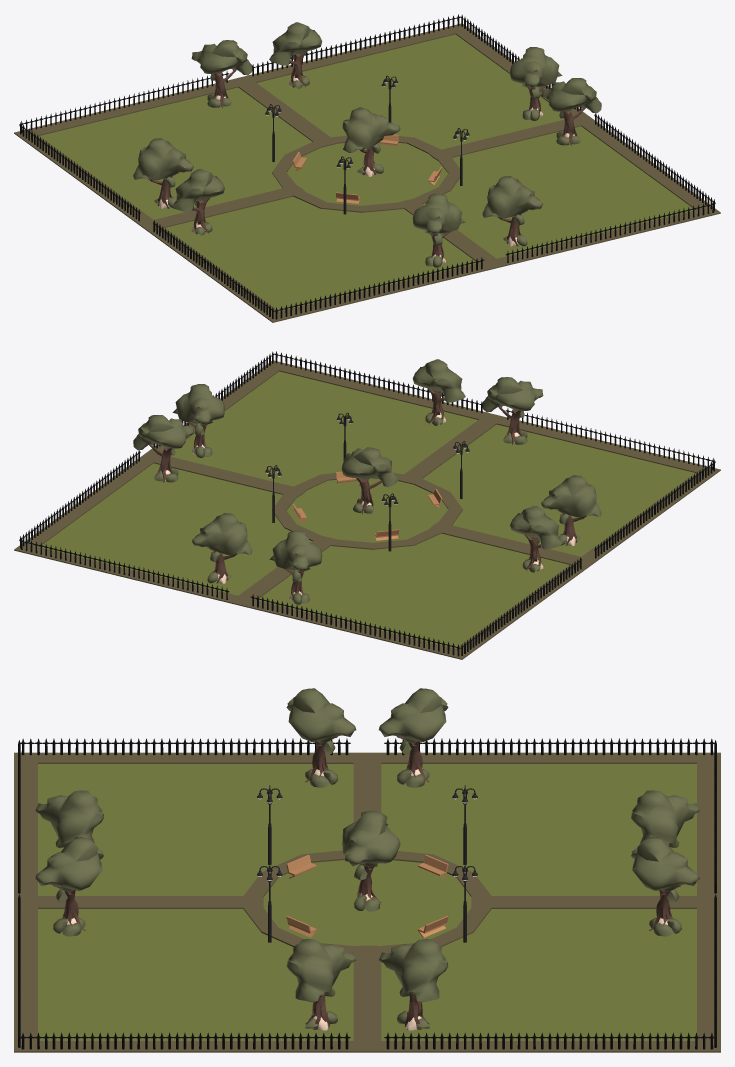
Rendered from nature_park.gltf.
3 renders of one model, top to bottom at view 1: azimuth 30°, elevation 25°; view 2: azimuth 150°, elevation 25°; view 3: azimuth 270°, elevation 25°, orthographic. The views are drawn at different scales.
Visible parts, largest first — view 1: park; view 2: park; view 3: park.
Boxes of the visible parts, x1=… form: park: x1=14, y1=14, x2=720, y2=322; park: x1=14, y1=351, x2=720, y2=659; park: x1=14, y1=688, x2=720, y2=1052.
Size of the model in its own units: 11.37 by 1.59 by 11.37.
